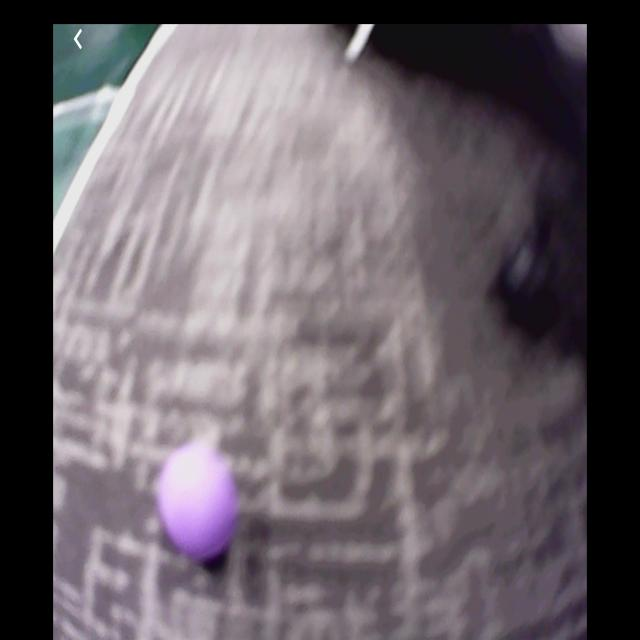ball: (159, 440, 237, 564)
